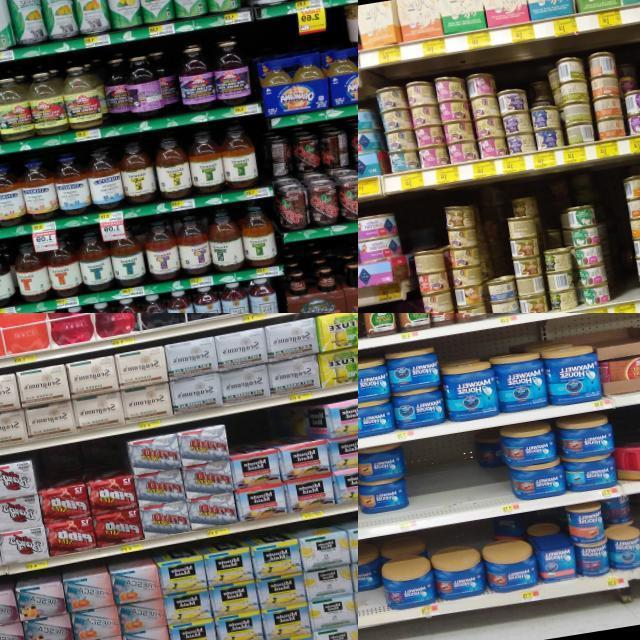Imprecise: (274, 128, 358, 226), (510, 194, 548, 311), (359, 442, 405, 528), (604, 494, 640, 572), (150, 49, 184, 114), (356, 546, 386, 616), (100, 57, 131, 120)
